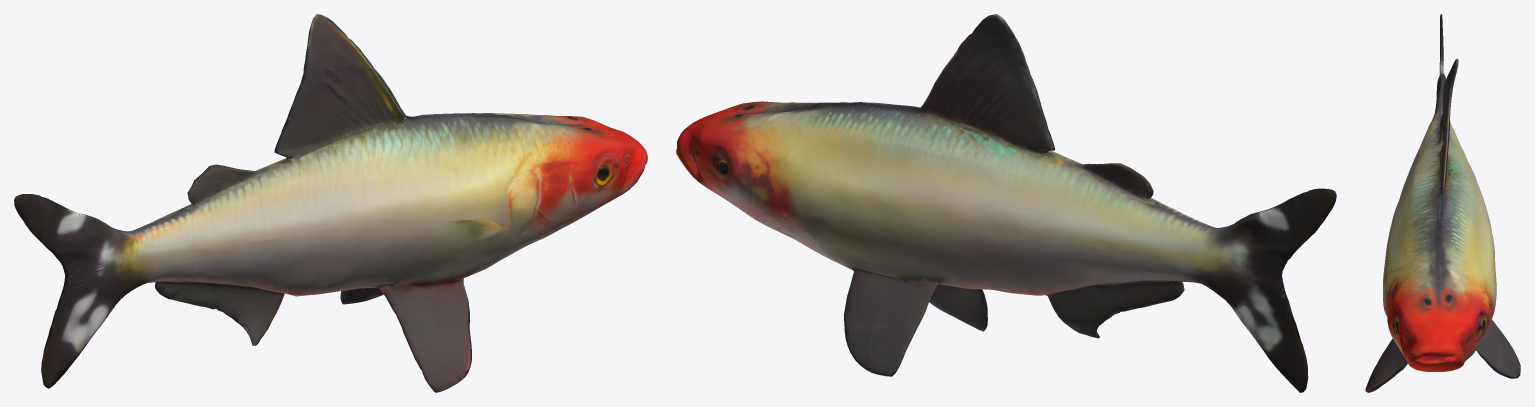
Rendered from rednose_0604064748_texture.glb.
3 renders of one model, left to right at view 1: azimuth 30°, elevation 25°; view 2: azimuth 150°, elevation 25°; view 3: azimuth 270°, elevation 25°, orthographic. The views are drawn at different scales.
Bounding box in the file's own units: 1.99 × 1.09 × 0.5071.
1 material, 1 textured.
